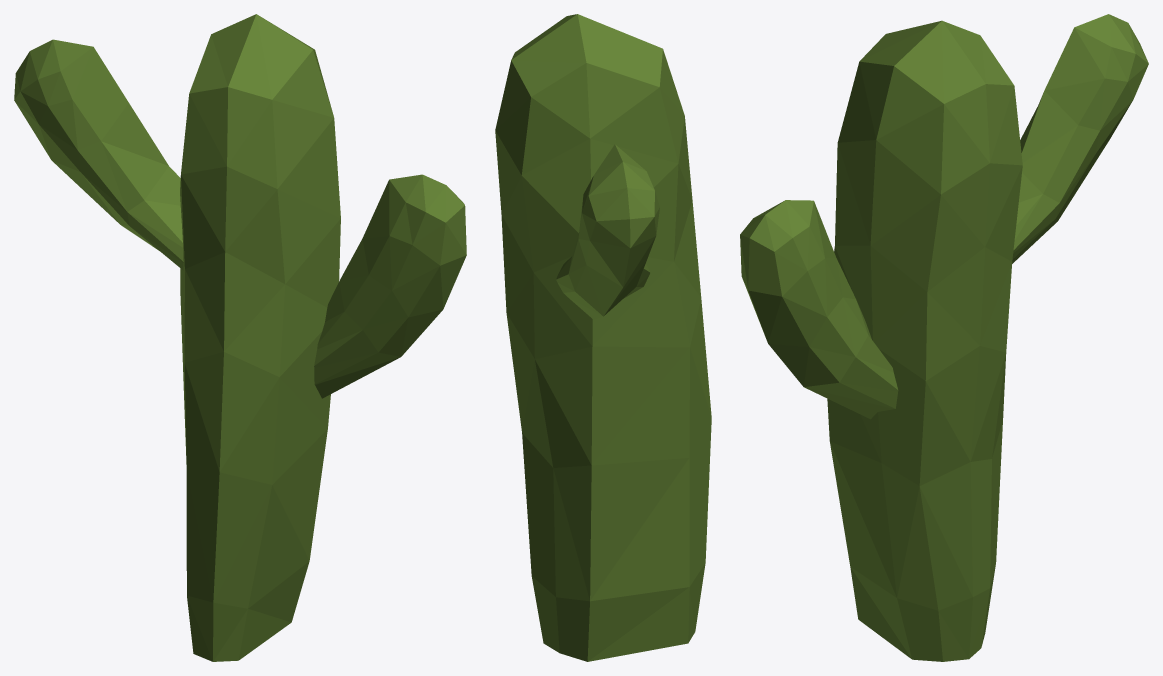
File: Cactu_2.fbx
3 renders of one model, left to right at view 1: azimuth 30°, elevation 25°; view 2: azimuth 150°, elevation 25°; view 3: azimuth 270°, elevation 25°, orthographic. The views are drawn at different scales.
Visible parts, largest first — view 1: 仙人掌2.001; view 2: 仙人掌2.001; view 3: 仙人掌2.001.
Boxes of the visible parts, box(x1,y1,x2,y2) form: 仙人掌2.001: box(14, 14, 466, 661); 仙人掌2.001: box(495, 14, 711, 661); 仙人掌2.001: box(740, 14, 1148, 661).
Bounding box in the file's own units: 103 × 210 × 124.
